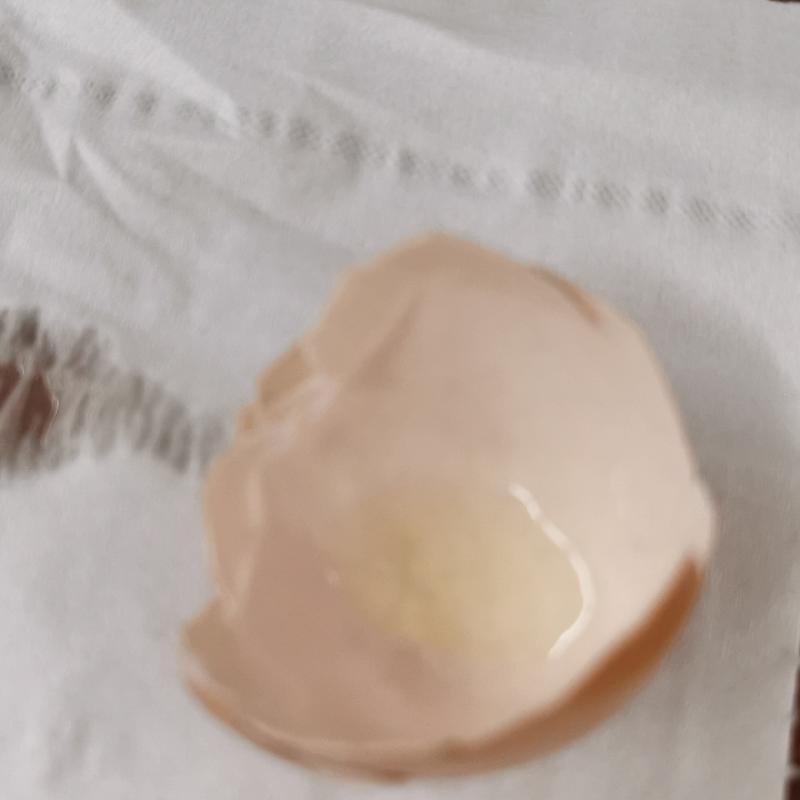eggshell: (168, 231, 722, 775)
